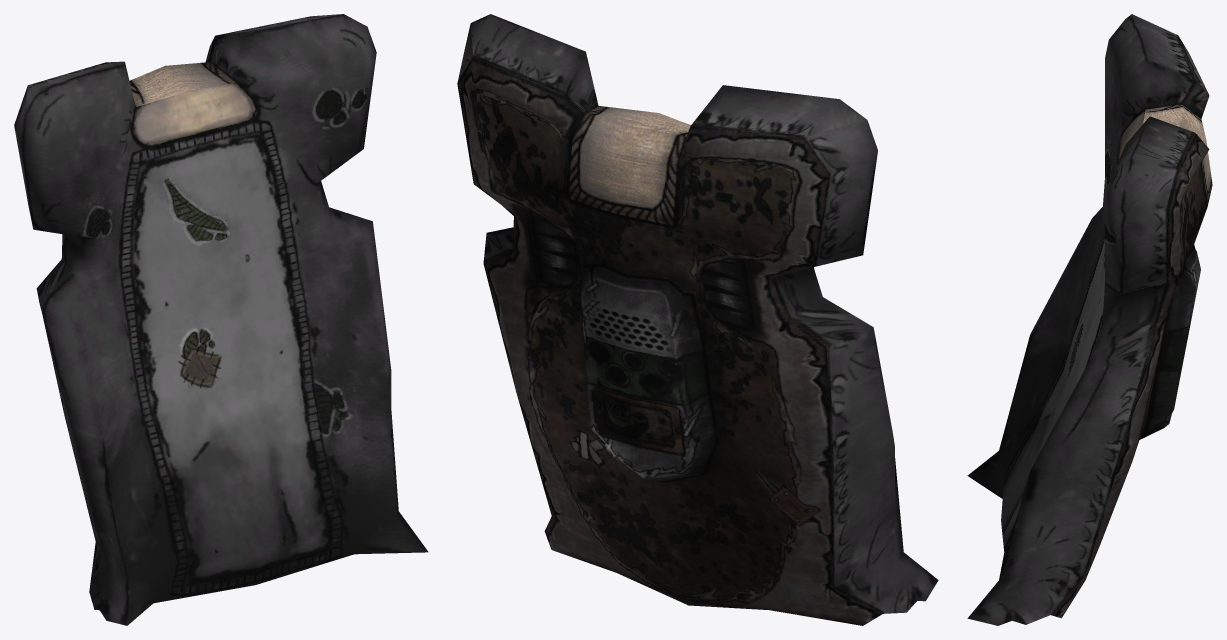
The model's file is Cadeira.glb.
3 renders of one model, left to right at view 1: azimuth 30°, elevation 25°; view 2: azimuth 150°, elevation 25°; view 3: azimuth 270°, elevation 25°, orthographic. The views are drawn at different scales.
Parts seen in each view (by area): view 1: BL2_360_PROPS_Generic_Chair_Office; view 2: BL2_360_PROPS_Generic_Chair_Office; view 3: BL2_360_PROPS_Generic_Chair_Office.
Boxes of the visible parts, x1,y1,x2,y2 form: BL2_360_PROPS_Generic_Chair_Office: (14, 14, 428, 625); BL2_360_PROPS_Generic_Chair_Office: (457, 14, 938, 625); BL2_360_PROPS_Generic_Chair_Office: (967, 14, 1212, 625).
Size of the model in its own units: 0.5659 by 0.7416 by 0.3478.
Materials: 1 (1 with a texture image).
